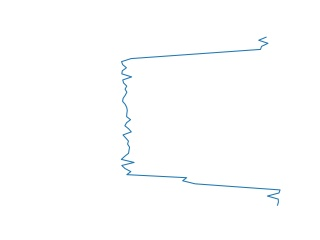distributaryChannelFill: (115, 36, 286, 206)
